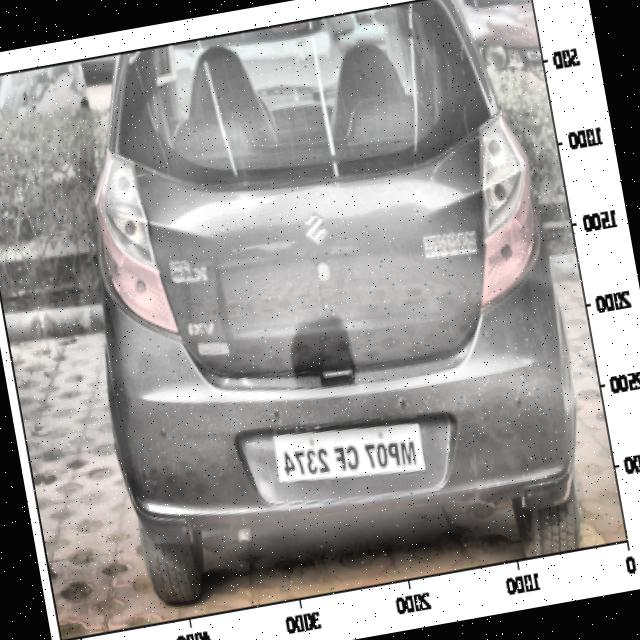license_plate: (276, 418, 427, 496)
